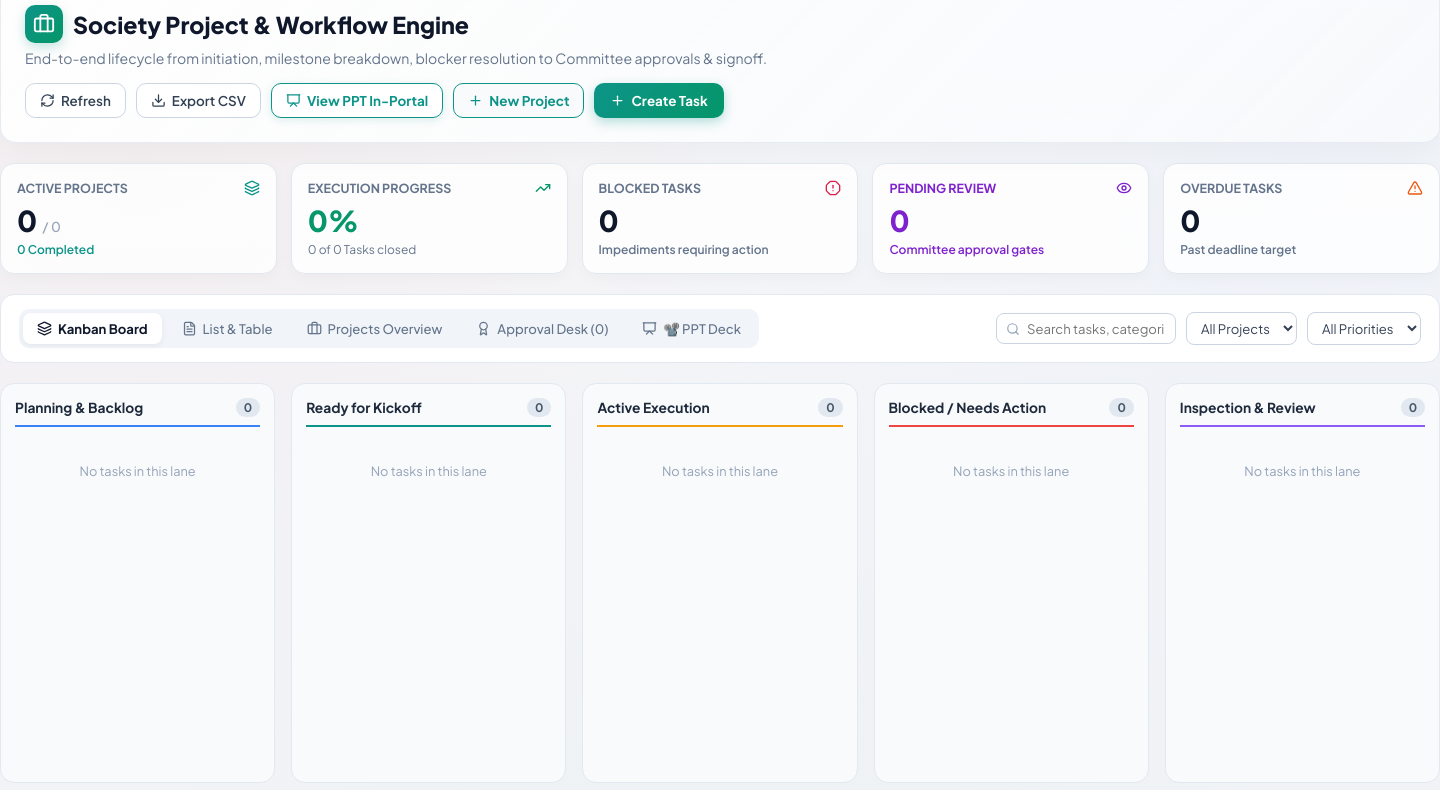
it: WorkflowManager Component › switches to Approval Desk and renders pending review queue
Click the button "Approval Desk (0)". click: (542, 328)
box: [462,313,622,344]
(page scrolled)
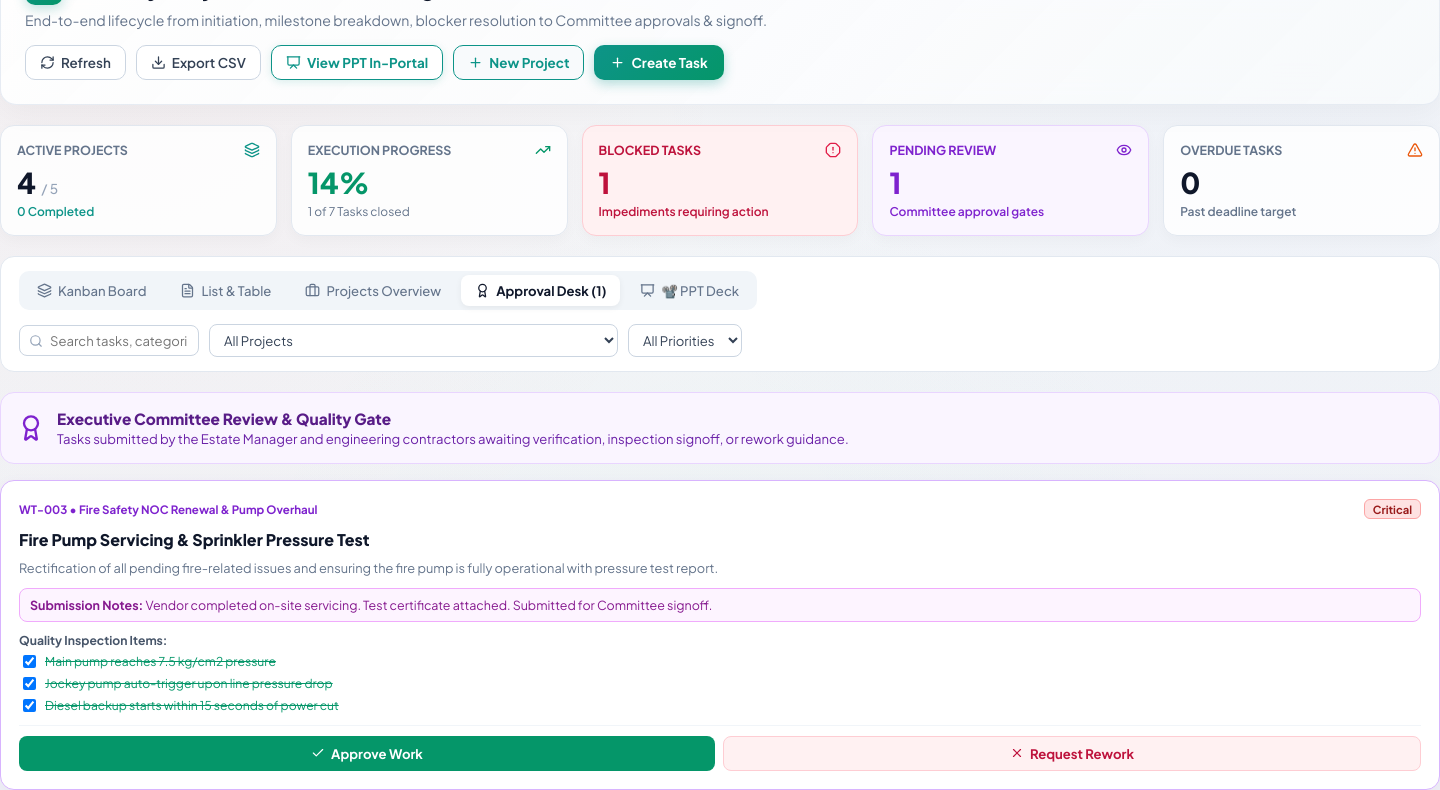
Now the heading "Executive Committee Review & Quality Gate" is shown, box [57,409,391,428]
Now the button "Approve Work" is shown, box [19,736,715,771]
Now the button "Request Rework" is shown, box [723,736,1421,771]
